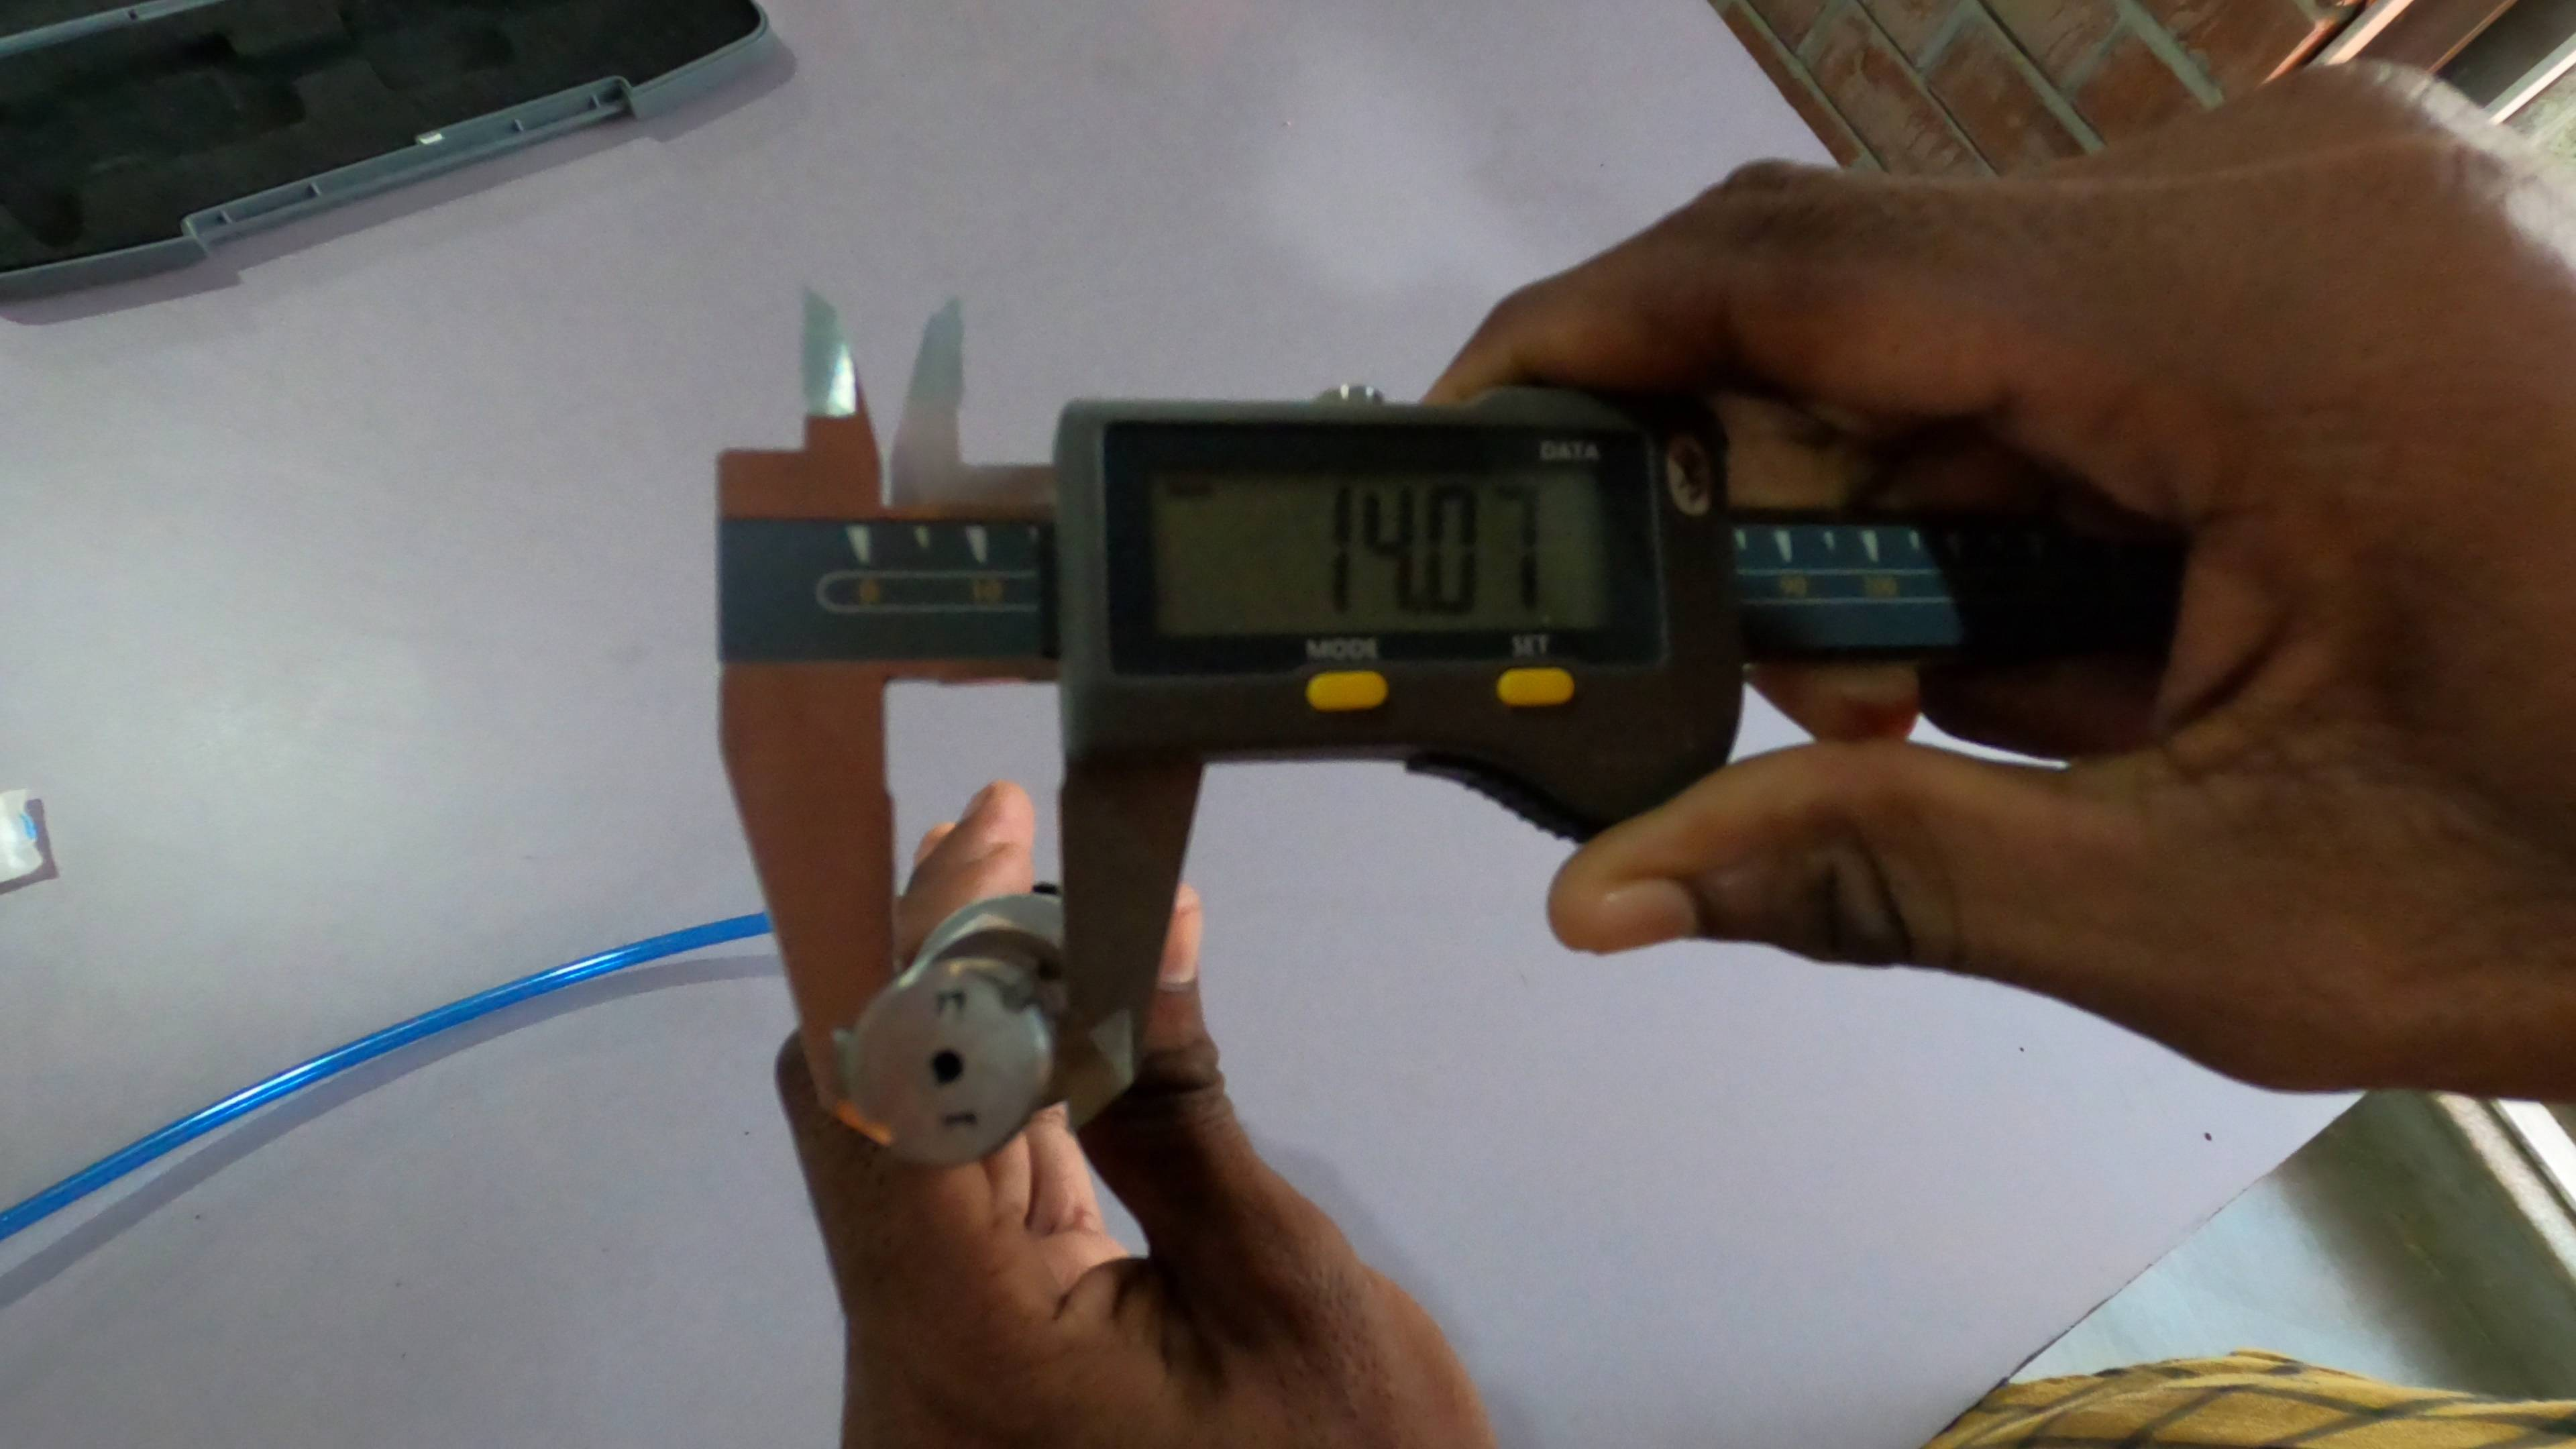vernier_caliper: (727, 287, 2128, 1180)
